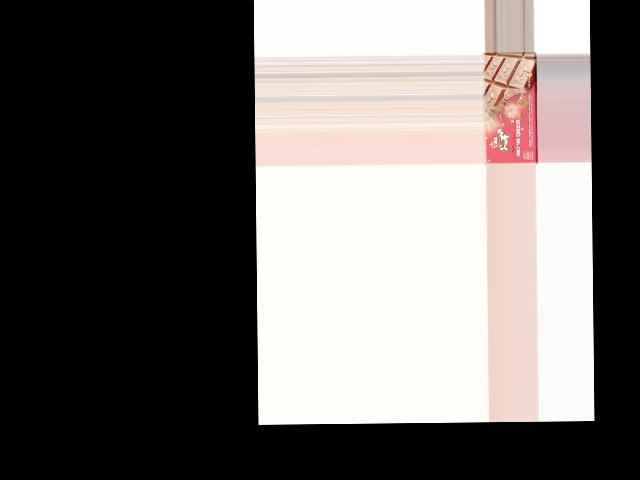chocolate: (483, 52, 537, 166)
